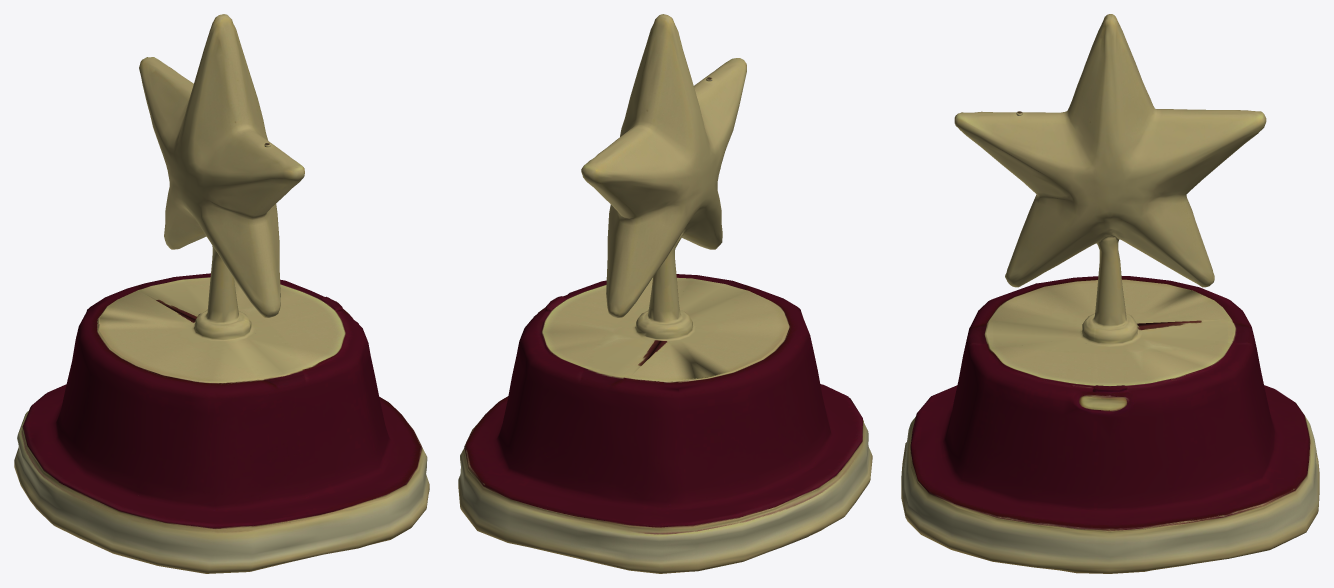
The picture shows the model from 3 angles, left to right: view 1: azimuth 30°, elevation 25°; view 2: azimuth 150°, elevation 25°; view 3: azimuth 270°, elevation 25°; orthographic projection.
Parts seen in each view (by area): view 1: tripo_node_0b3a03f7-6ae5-4aa5-9ddd-ad170dd0924c; view 2: tripo_node_0b3a03f7-6ae5-4aa5-9ddd-ad170dd0924c; view 3: tripo_node_0b3a03f7-6ae5-4aa5-9ddd-ad170dd0924c.
Part boxes in pixels (x1,y1,x2,y2): tripo_node_0b3a03f7-6ae5-4aa5-9ddd-ad170dd0924c: [14, 14, 429, 573]; tripo_node_0b3a03f7-6ae5-4aa5-9ddd-ad170dd0924c: [458, 14, 872, 573]; tripo_node_0b3a03f7-6ae5-4aa5-9ddd-ad170dd0924c: [901, 14, 1319, 573].
Bounding box in the file's own units: 0.0932 × 0.12 × 0.0956.
Materials: 1 (1 with a texture image).
